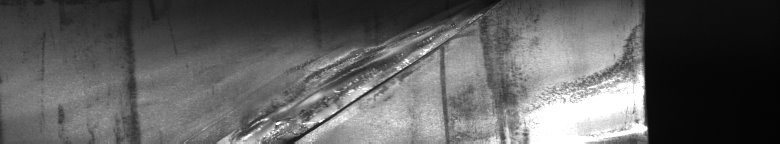ke: (228, 4, 632, 136)
